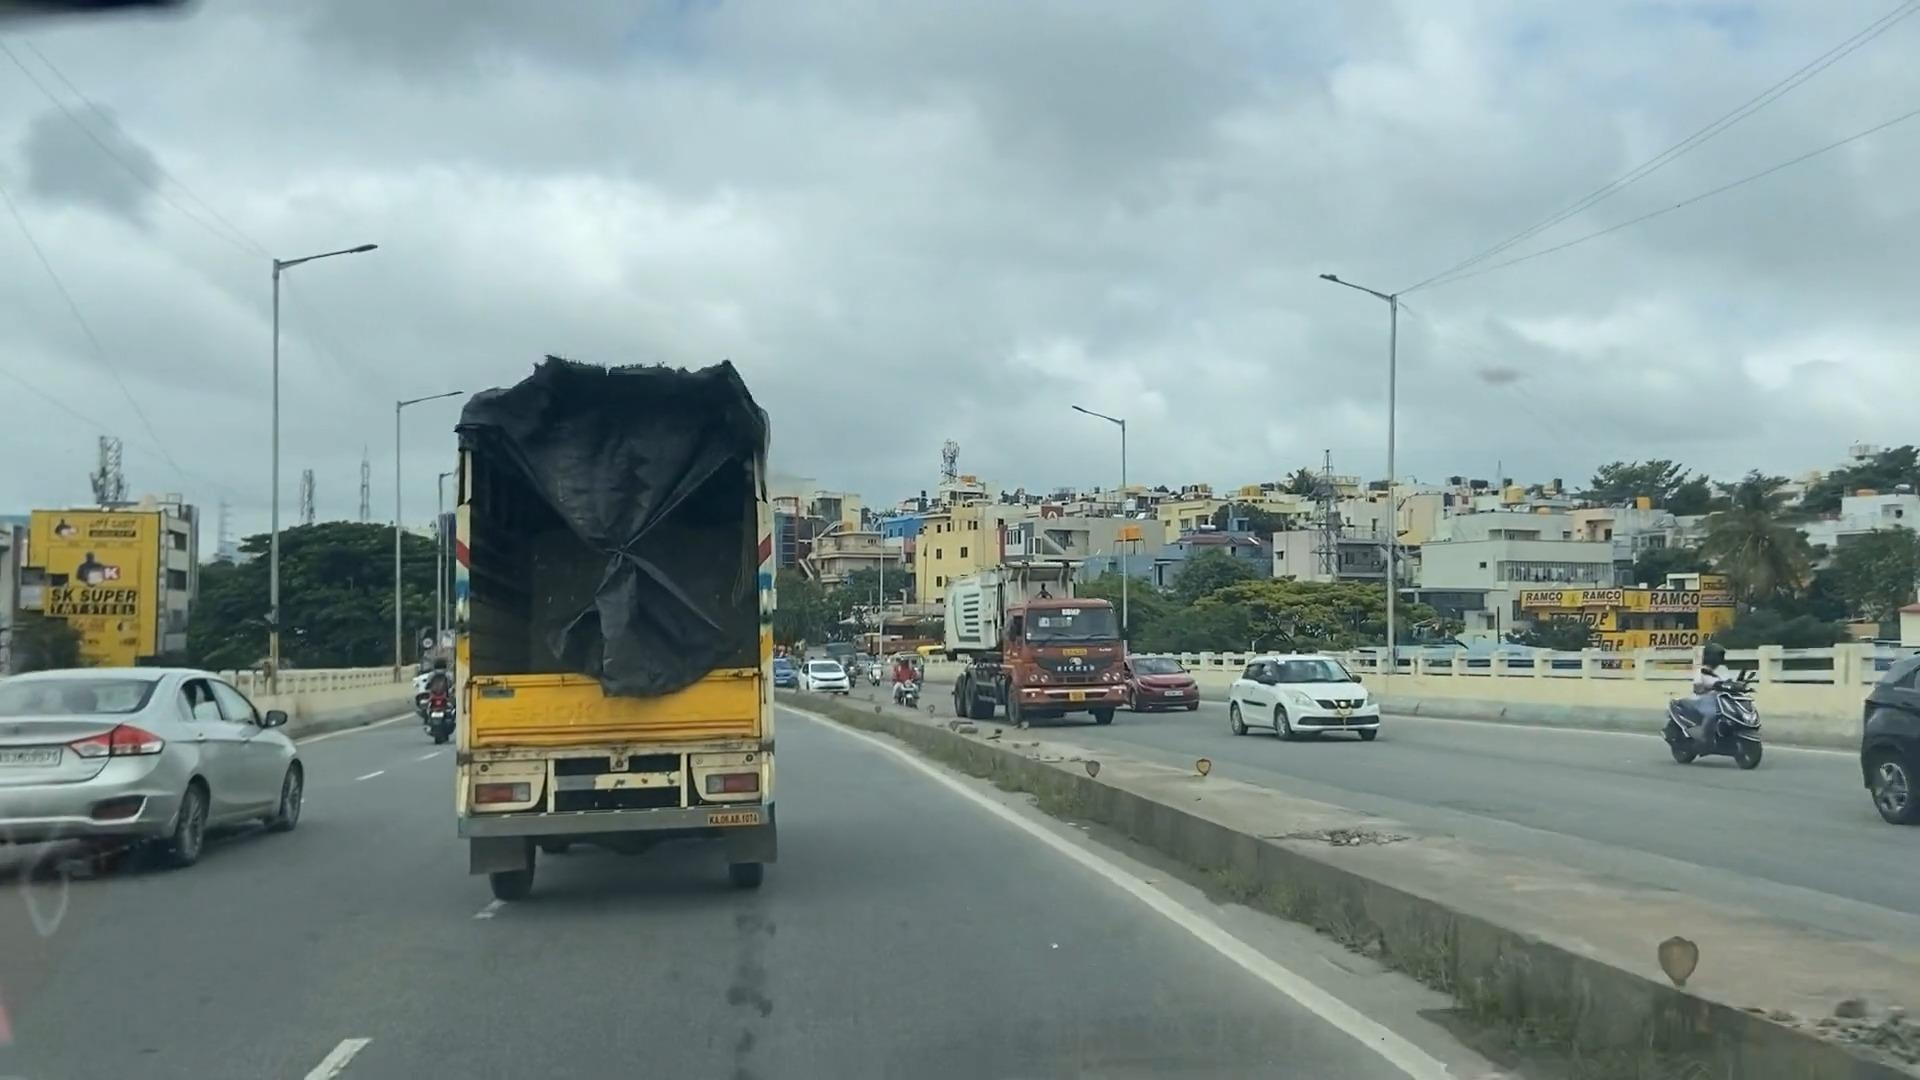HMV: (434, 342, 827, 915), (909, 558, 1139, 723)
